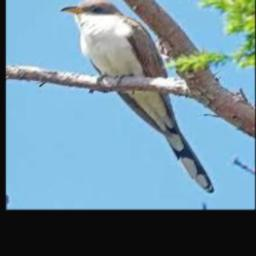Cuckoo: (62, 0, 215, 193)
